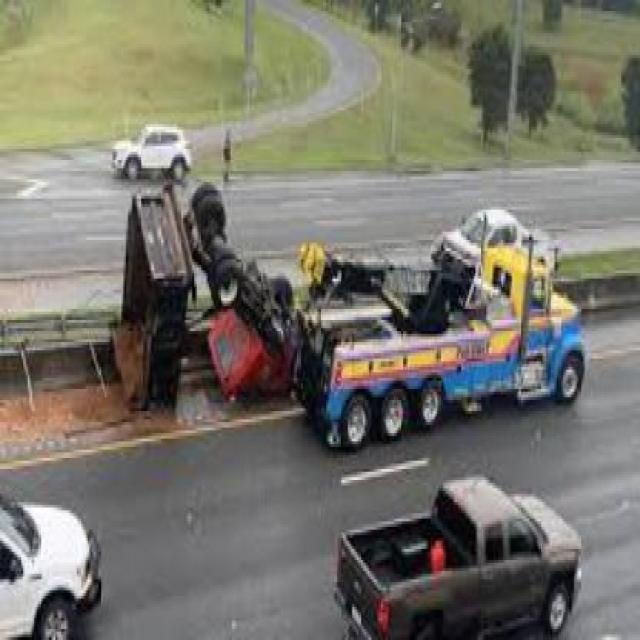accident: (106, 174, 591, 447)
